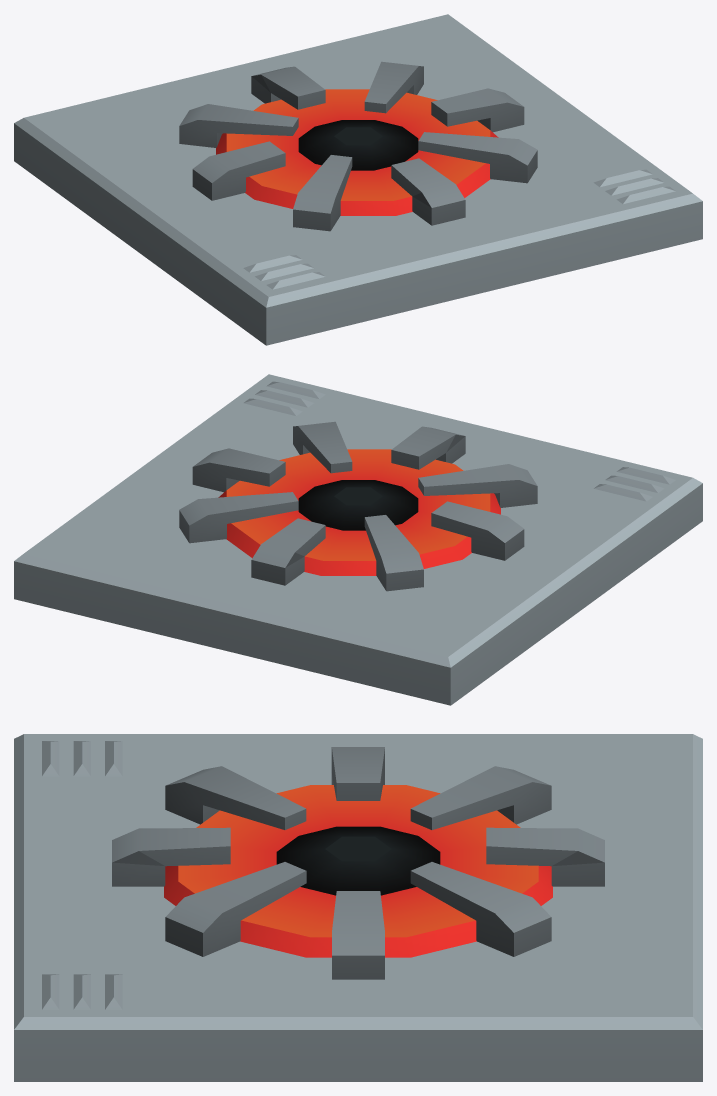
File: Stove.glb
3 renders of one model, top to bottom at view 1: azimuth 30°, elevation 25°; view 2: azimuth 150°, elevation 25°; view 3: azimuth 270°, elevation 25°, orthographic. The views are drawn at different scales.
Visible parts, largest first — view 1: stove_single_countertop; view 2: stove_single_countertop; view 3: stove_single_countertop.
Part boxes in pixels (bbox=[...]): stove_single_countertop: bbox=[14, 14, 702, 345]; stove_single_countertop: bbox=[14, 374, 702, 705]; stove_single_countertop: bbox=[14, 734, 702, 1081].
Bounding box in the file's own units: 1.75 × 0.2777 × 1.75.
1 material, 1 textured.
